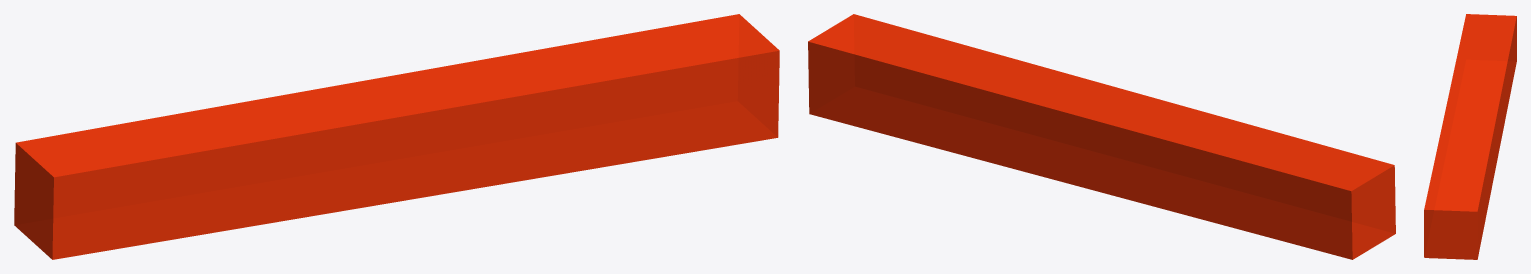
File: Event_420094457_EErechit_50.fbx
The picture shows the model from 3 angles, left to right: view 1: azimuth 30°, elevation 25°; view 2: azimuth 150°, elevation 25°; view 3: azimuth 270°, elevation 25°; orthographic projection. The views are drawn at different scales.
Parts seen in each view (by area): view 1: Model; view 2: Model; view 3: Model.
Part boxes in pixels (x1,y1,x2,y2): Model: (14,14,779,259); Model: (808,14,1395,259); Model: (1424,14,1516,259).
Bounding box in the file's own units: 0.6434 × 0.0887 × 0.1324.
